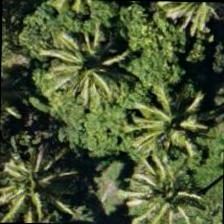Kelapa_Sawit: (43, 20, 135, 112), (138, 74, 223, 167), (0, 142, 77, 223), (127, 159, 220, 223)
